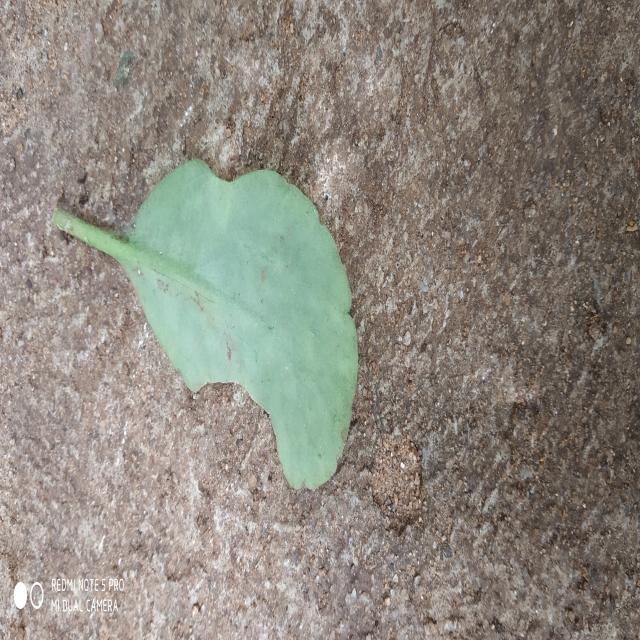spinach: (70, 160, 358, 488)
